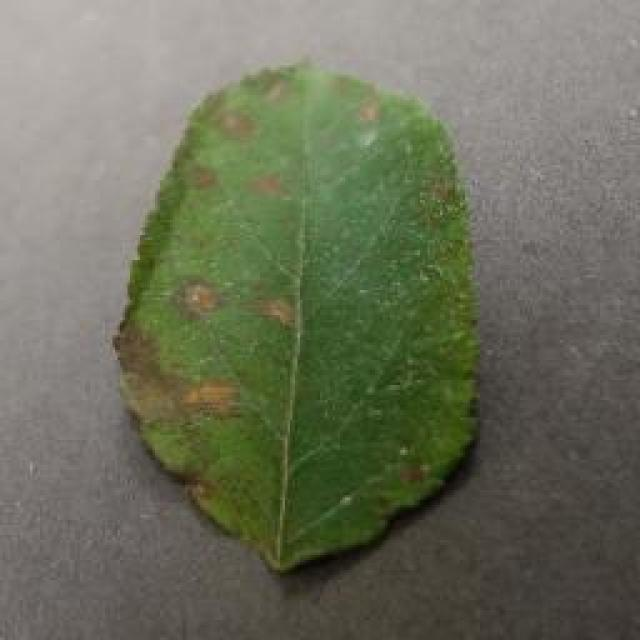apple healthy: (110, 57, 482, 575)
